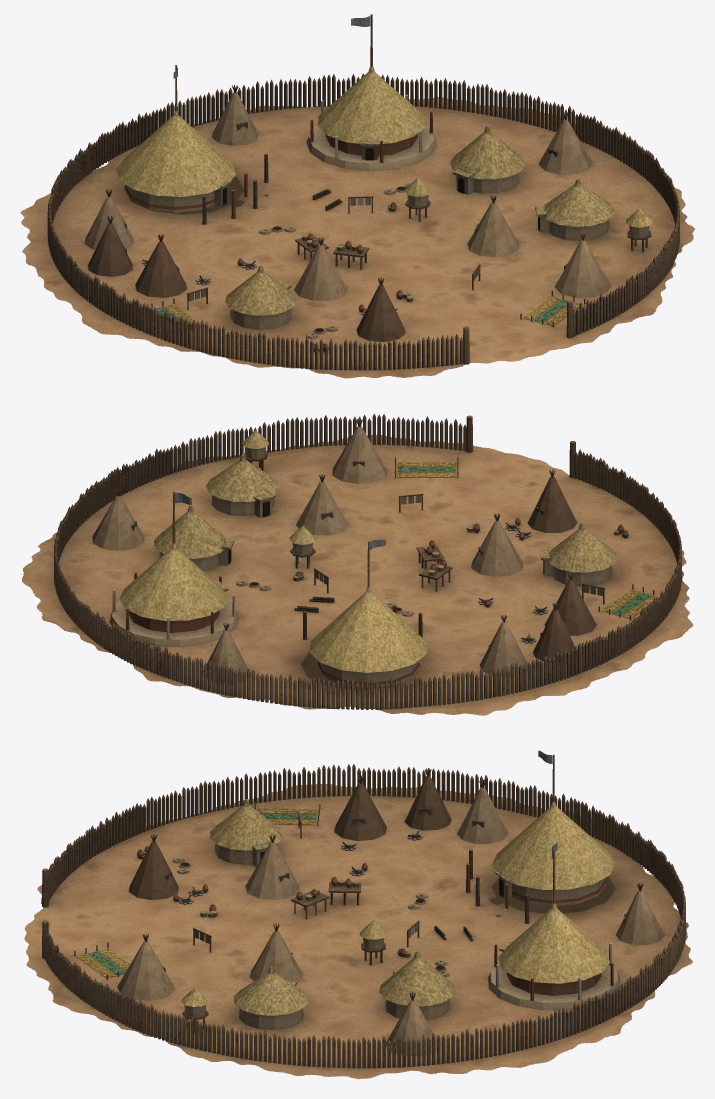
The model's file is stone-town-medium-a-maghreb.glb.
3 views of the same model, one above another, from view 1: azimuth 30°, elevation 25°; view 2: azimuth 150°, elevation 25°; view 3: azimuth 270°, elevation 25° (orthographic). The views are drawn at different scales.
Visible parts, largest first — view 1: LOD0; view 2: LOD0; view 3: LOD0.
Boxes of the visible parts, x1=… form: LOD0: x1=20, y1=14, x2=694, y2=378; LOD0: x1=22, y1=413, x2=693, y2=715; LOD0: x1=24, y1=750, x2=692, y2=1079.
Size of what is drawn, in the model's own units: 5.99 by 1.25 by 5.76.
3 materials, 3 textured.
